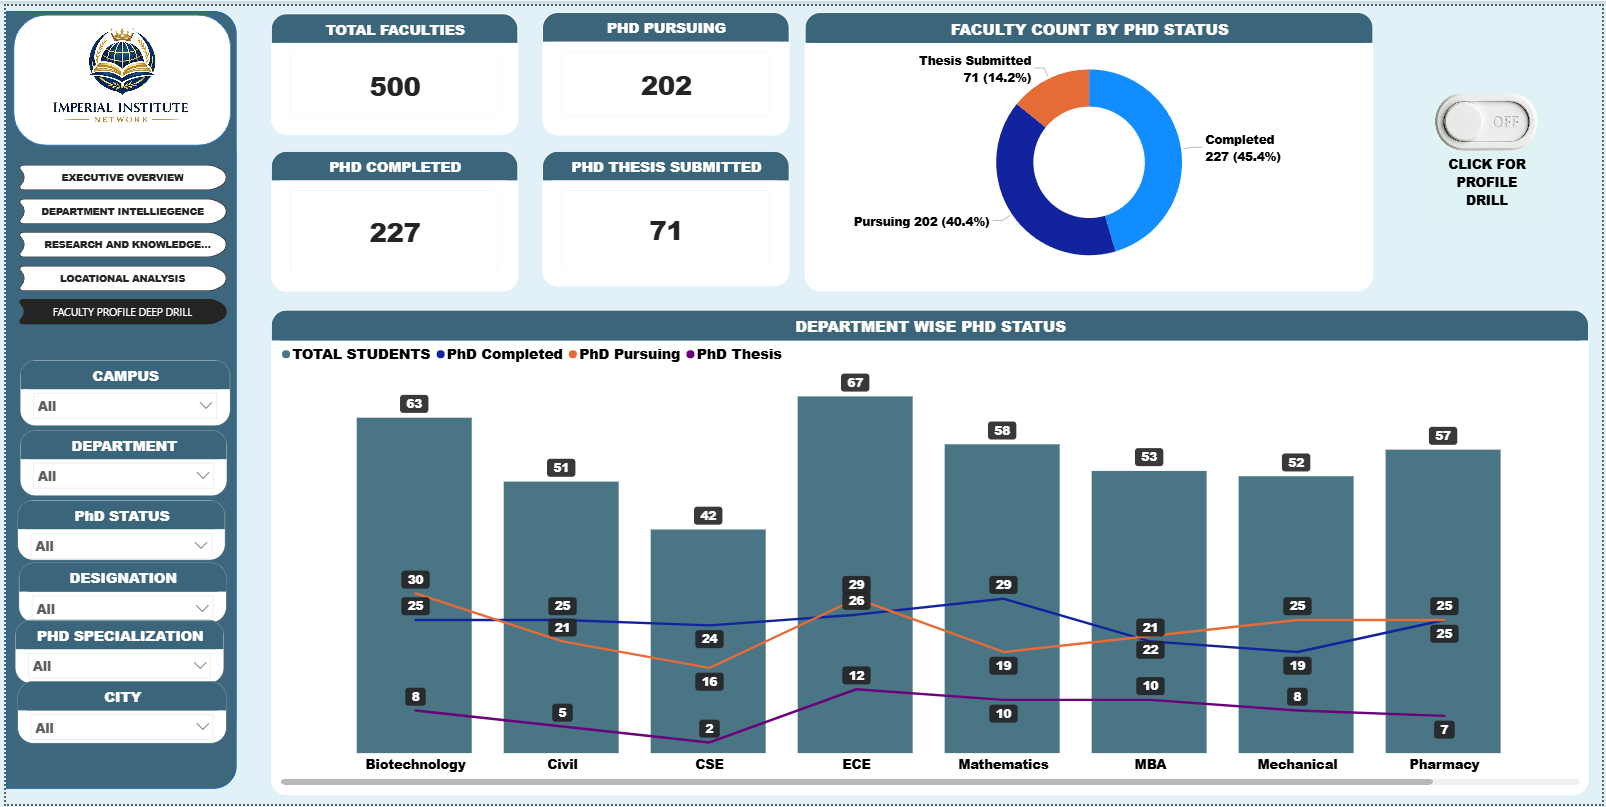

The page's visual inventory and layout, read from the dashboard file:
{"tool":"powerbi","page":{"name":"FACULTY PROFILE DEEP DRILL","canvas":[2000,1050],"ordinal":4},"visuals":[{"type":"shape","box":[0,6.7,289.1,974.1],"z":0,"group":"g3"},{"type":"donutChart","title":"FACULTY COUNT BY PHD STATUS","fields":{"Series":["PhD Faculty Data.PHD STATUS"],"Y":["Count(PhD Faculty Data.SR.NO)"]},"box":[1000.9,7.6,712.3,349.5],"z":0},{"type":"actionButton","box":[1785,109.1,140.1,71.7],"z":0,"group":"g2"},{"type":"cardVisual","title":"PHD COMPLETED","fields":{"Data":["PhD Faculty Data.PhD Completed"]},"box":[332.4,181.4,309.6,175.7],"z":0,"group":"g1"},{"type":"slicer","title":"CAMPUS","fields":{"Values":["PhD Faculty Data.CAMPUS"]},"box":[16.4,443.7,263.6,83.1],"z":0,"group":"g4"},{"type":"textbox","box":[1785,180.8,140.1,87.9],"z":1000,"group":"g2"},{"type":"cardVisual","title":"PHD THESIS SUBMITTED","fields":{"Data":["PhD Faculty Data.PhD Thesis"]},"box":[672.4,181.4,309.6,169.8],"z":1000,"group":"g1"},{"type":"lineStackedColumnComboChart","title":"DEPARTMENT WISE PHD STATUS","fields":{"Category":["PhD Faculty Data.DEPARTMENT"],"Y2":["PhD Faculty Data.PhD Completed","PhD Faculty Data.PhD Pursuing","PhD Faculty Data.PhD Thesis"],"Y":["Count(PhD Faculty Data.SR.NO)"]},"box":[332.4,379.9,1650.5,607.8],"z":1000},{"type":"slicer","title":"DEPARTMENT","fields":{"Values":["PhD Faculty Data.DEPARTMENT"]},"box":[16.6,531.2,260.1,83.1],"z":1000,"group":"g4"},{"type":"group","id":"g1","title":"Group 5","box":[332.4,7.6,649.6,349.5],"z":2000},{"type":"cardVisual","title":"PHD PURSUING","fields":{"Data":["PhD Faculty Data.PhD Pursuing"]},"box":[672.4,7.6,309.6,154],"z":2000,"group":"g1"},{"type":"slicer","title":"PhD STATUS","fields":{"Values":["PhD Faculty Data.PHD STATUS"]},"box":[14.5,619.4,260.7,75.9],"z":2000,"group":"g4"},{"type":"cardVisual","title":"TOTAL FACULTIES","fields":{"Data":["Count(PhD Faculty Data.SR.NO)"]},"box":[332.4,9.6,309.6,152],"z":3000,"group":"g1"},{"type":"slicer","title":"DESIGNATION","fields":{"Values":["PhD Faculty Data.DESIGNATION"]},"box":[15.6,698.1,260.7,75.9],"z":3000,"group":"g4"},{"type":"group","id":"g2","title":"Group 6","box":[1785,109.1,140.1,159.6],"z":4000},{"type":"slicer","title":"PHD SPECIALIZATION","fields":{"Values":["PhD Faculty Data.PhD SPECIALIZATION"]},"box":[10.6,769.3,262.7,79.7],"z":5000,"group":"g4"},{"type":"slicer","title":"CITY","fields":{"Values":["PhD Faculty Data.CITY"]},"box":[13.2,845.7,262.7,78.6],"z":6000,"group":"g4"},{"type":"group","id":"g3","title":"Group 4","box":[0,6.7,289.1,974.1],"z":11000},{"type":"pageNavigator","box":[11.7,198.8,270.7,202.2],"z":12000},{"type":"shape","box":[10,11.7,272.3,163.7],"z":13000},{"type":"group","id":"g4","title":"Group 2","box":[10.6,443.7,269.4,480.6],"z":14000},{"type":"image","box":[20.1,28.4,250.6,133.7],"z":15000},{"type":"textbox","box":[178.6,986,566.8,64],"z":15001}]}

Visuals, with their boxes on the page's 2000x1050 design canvas (x1, y1, x2, y2). These are canvas units, not pixel positions in the 1606x807 screenshot, which may show the page scaled, cropped or inside an application window:
shape: <region>0, 7, 289, 981</region>
"FACULTY COUNT BY PHD STATUS" donutChart: <region>1001, 8, 1713, 357</region>
actionButton: <region>1785, 109, 1925, 181</region>
"PHD COMPLETED" cardVisual: <region>332, 181, 642, 357</region>
"CAMPUS" slicer: <region>16, 444, 280, 527</region>
textbox: <region>1785, 181, 1925, 269</region>
"PHD THESIS SUBMITTED" cardVisual: <region>672, 181, 982, 351</region>
"DEPARTMENT WISE PHD STATUS" lineStackedColumnComboChart: <region>332, 380, 1983, 988</region>
"DEPARTMENT" slicer: <region>17, 531, 277, 614</region>
"Group 5" group: <region>332, 8, 982, 357</region>
"PHD PURSUING" cardVisual: <region>672, 8, 982, 162</region>
"PhD STATUS" slicer: <region>14, 619, 275, 695</region>
"TOTAL FACULTIES" cardVisual: <region>332, 10, 642, 162</region>
"DESIGNATION" slicer: <region>16, 698, 276, 774</region>
"Group 6" group: <region>1785, 109, 1925, 269</region>
"PHD SPECIALIZATION" slicer: <region>11, 769, 273, 849</region>
"CITY" slicer: <region>13, 846, 276, 924</region>
"Group 4" group: <region>0, 7, 289, 981</region>
pageNavigator: <region>12, 199, 282, 401</region>
shape: <region>10, 12, 282, 175</region>
"Group 2" group: <region>11, 444, 280, 924</region>
image: <region>20, 28, 271, 162</region>
textbox: <region>179, 986, 745, 1050</region>
